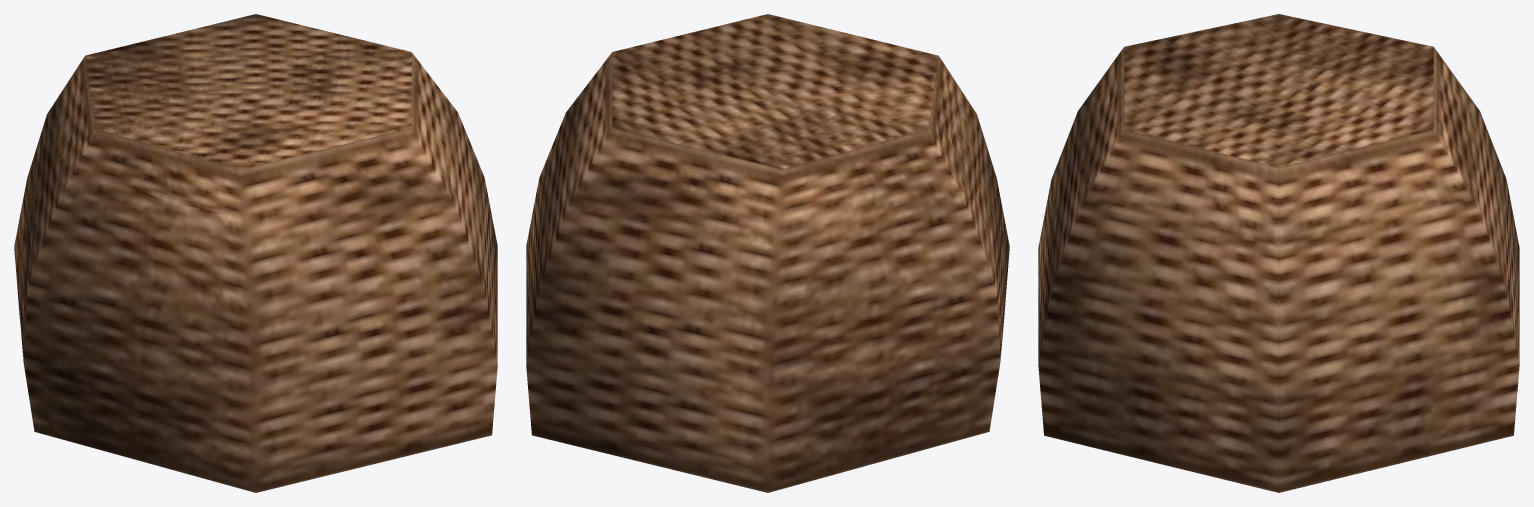
The model's file is pir_m_hnd_cnt_basket.fbx.
The picture shows the model from 3 angles, left to right: view 1: azimuth 30°, elevation 25°; view 2: azimuth 150°, elevation 25°; view 3: azimuth 270°, elevation 25°; orthographic projection.
Parts seen in each view (by area): view 1: lod_high; view 2: lod_high; view 3: lod_high.
Boxes of the visible parts, x1,y1,x2,y2 form: lod_high: (14,14,497,492); lod_high: (526,14,1009,492); lod_high: (1038,14,1519,492).
Size of the model in its own units: 91.82 by 53.26 by 81.1.
Materials: 1 (1 with a texture image).
